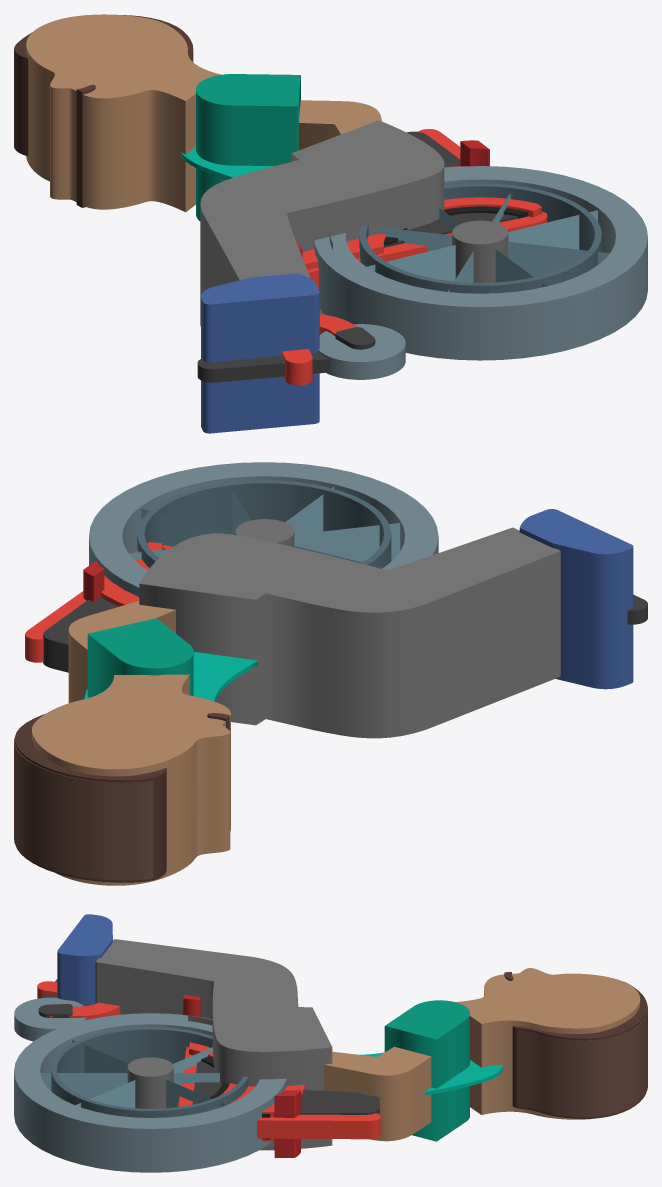
File: emoji_u1f468_1f3fd_200d_1f9bd.glb
3 views of the same model, one above another, from view 1: azimuth 30°, elevation 25°; view 2: azimuth 150°, elevation 25°; view 3: azimuth 270°, elevation 25° (orthographic). The views are drawn at different scales.
Visible parts, largest first — view 1: emoji_u1f468_1f3fd_200d_1f9bd; view 2: emoji_u1f468_1f3fd_200d_1f9bd; view 3: emoji_u1f468_1f3fd_200d_1f9bd.
Boxes of the visible parts, box(x1,y1,x2,y2) form: emoji_u1f468_1f3fd_200d_1f9bd: box(14, 14, 647, 433); emoji_u1f468_1f3fd_200d_1f9bd: box(14, 462, 647, 885); emoji_u1f468_1f3fd_200d_1f9bd: box(14, 914, 647, 1172).
Size of the model in its own units: 0.022 by 0.0058 by 0.0315.
